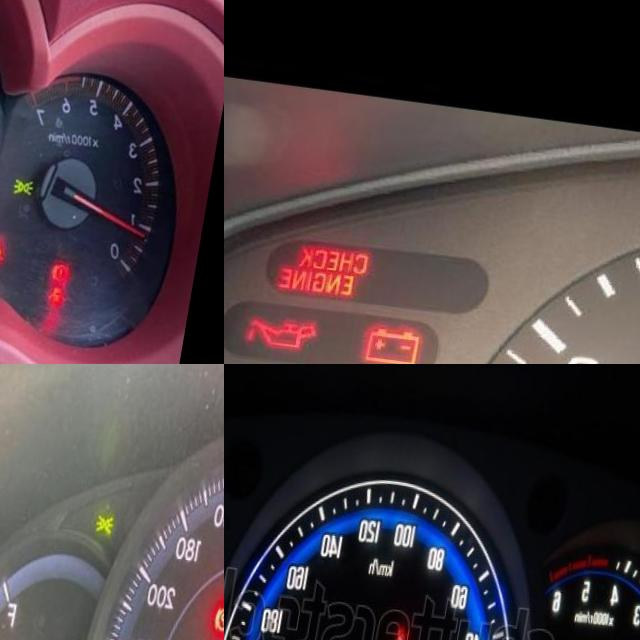Seat Belt: (5, 229, 20, 253)
